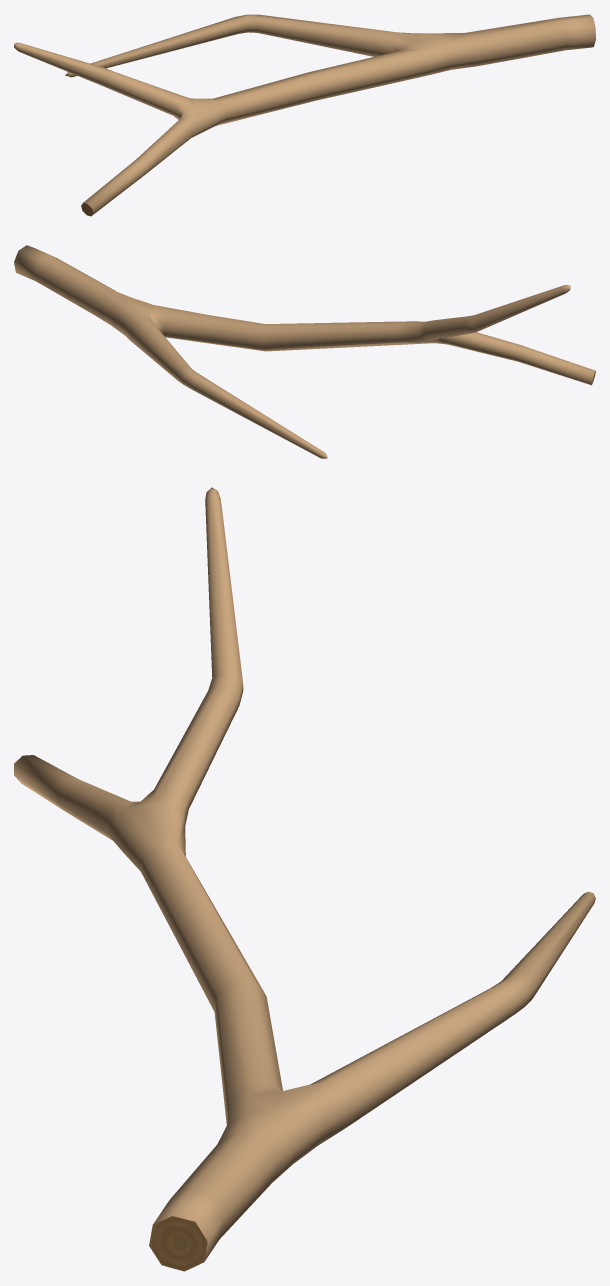
File: Branch_3.fbx
3 views of the same model, one above another, from view 1: azimuth 30°, elevation 25°; view 2: azimuth 150°, elevation 25°; view 3: azimuth 270°, elevation 25° (orthographic). The views are drawn at different scales.
Parts seen in each view (by area): view 1: Cube.082; view 2: Cube.082; view 3: Cube.082.
Boxes of the visible parts, <box> form: Cube.082: <box>14,14,595,216</box>; Cube.082: <box>14,245,595,458</box>; Cube.082: <box>14,487,595,1271</box>.
Size of the model in its own units: 238 by 56.81 by 110.
